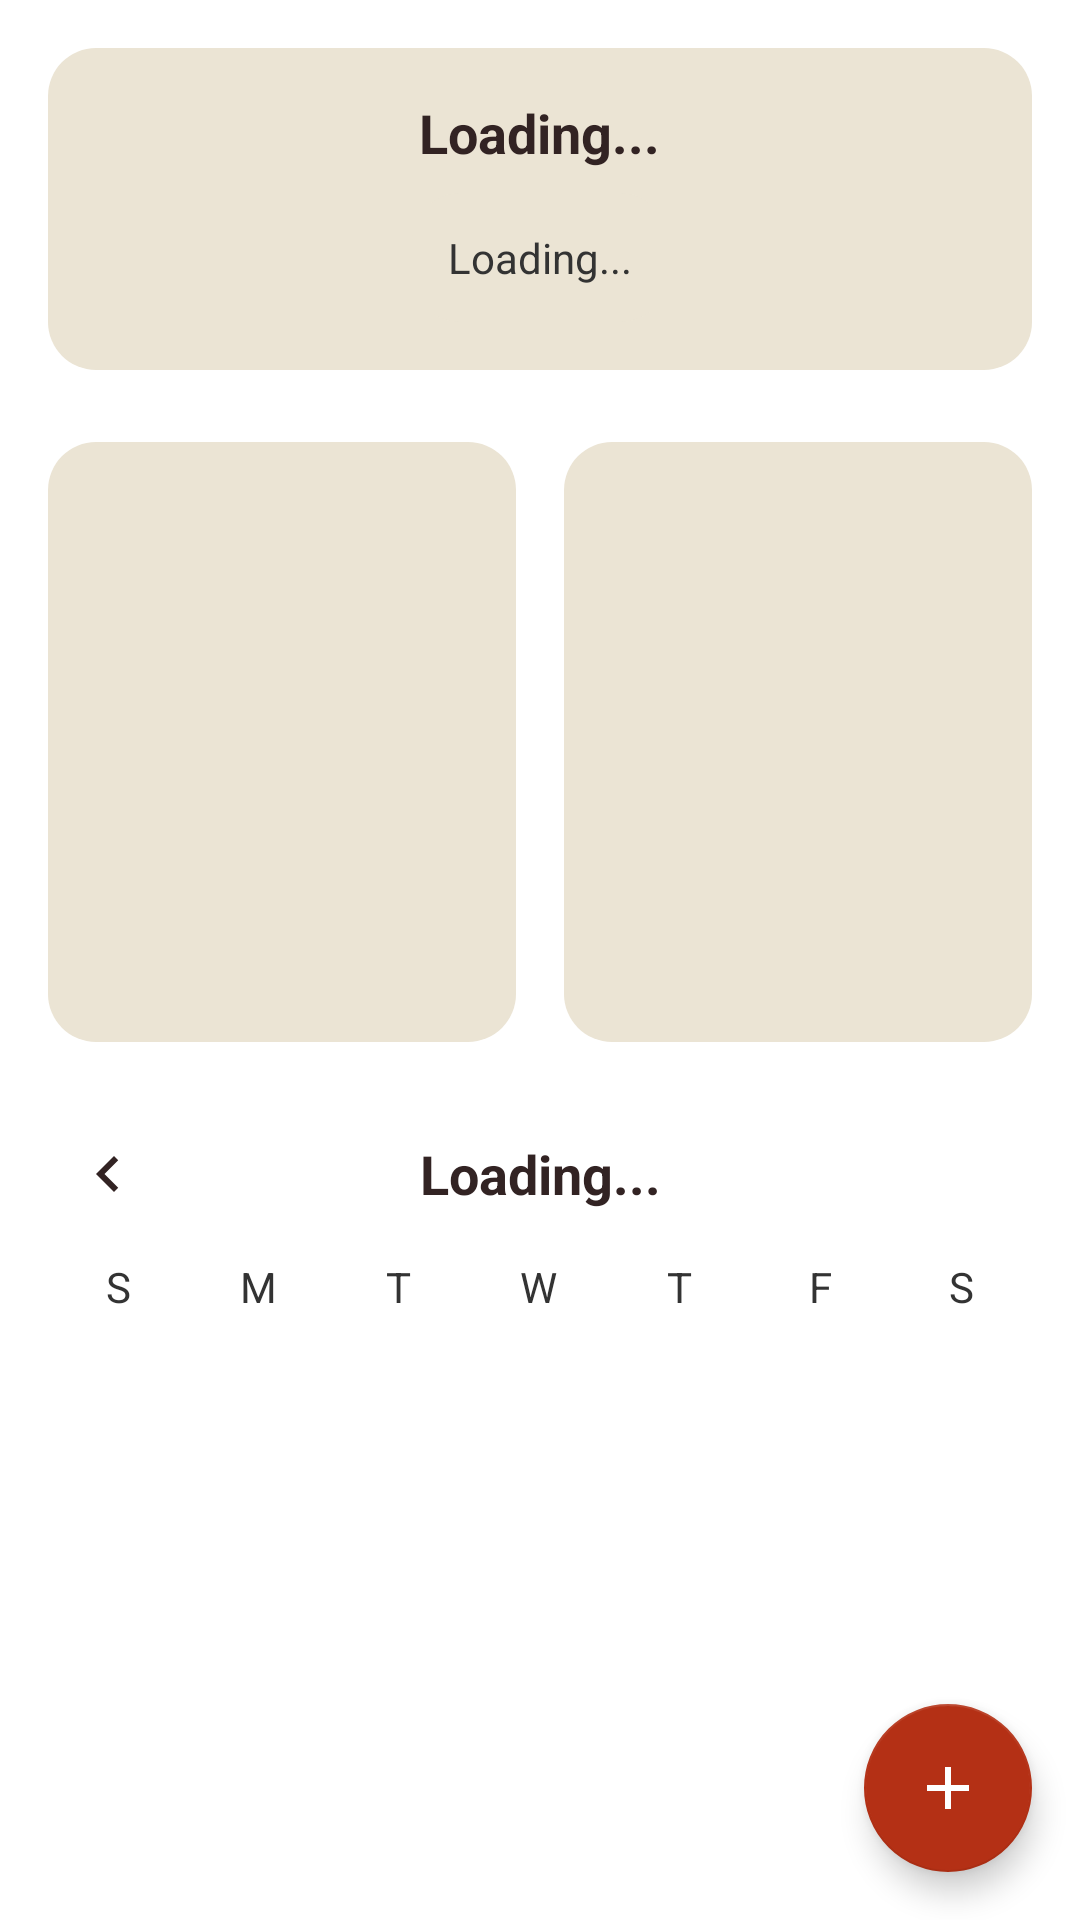

Named icons in this screenshot (1080x1920) and their centers, (x,y):
Previous month: (107,1174)
